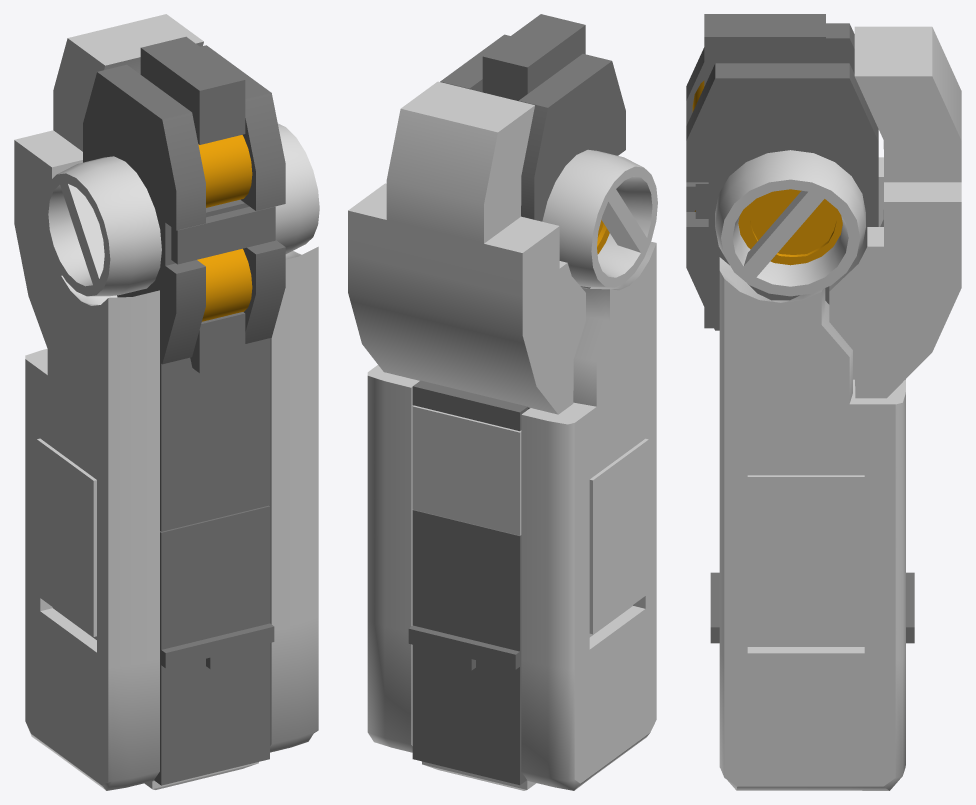
The model's file is dlefthand.obj.
The picture shows the model from 3 angles, left to right: view 1: azimuth 30°, elevation 25°; view 2: azimuth 150°, elevation 25°; view 3: azimuth 270°, elevation 25°; orthographic projection. The views are drawn at different scales.
Parts seen in each view (by area): view 1: dlefthand; view 2: dlefthand; view 3: dlefthand.
Boxes of the visible parts, x1=… form: dlefthand: x1=14, y1=14, x2=319, y2=790; dlefthand: x1=348, y1=14, x2=657, y2=790; dlefthand: x1=686, y1=14, x2=961, y2=790.
Size of the model in its own units: 1.86 by 5.82 by 1.98.
